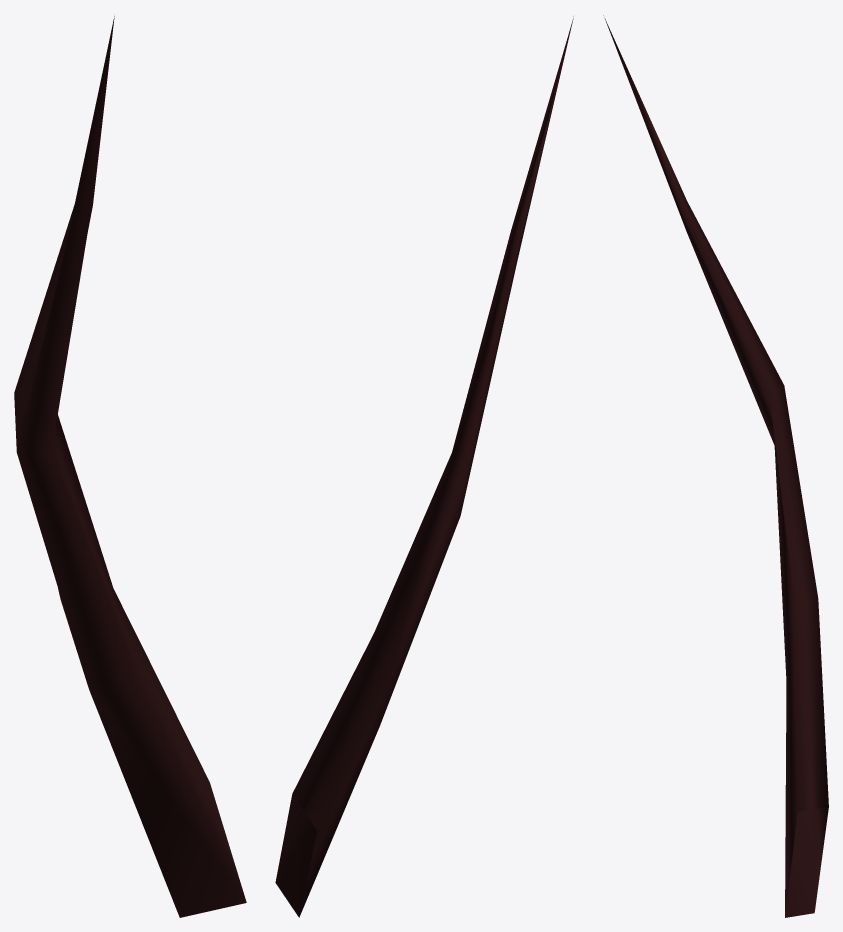
The model's file is SM_Branch02.fbx.
3 views of the same model, side by side, from view 1: azimuth 30°, elevation 25°; view 2: azimuth 150°, elevation 25°; view 3: azimuth 270°, elevation 25° (orthographic). The views are drawn at different scales.
Parts seen in each view (by area): view 1: SM_Branch02; view 2: SM_Branch02; view 3: SM_Branch02.
Part boxes in pixels (x1,y1,x2,y2): SM_Branch02: (14, 16, 246, 917); SM_Branch02: (275, 16, 573, 917); SM_Branch02: (603, 15, 828, 917).
Bounding box in the file's own units: 2.22 × 2.24 × 9.
